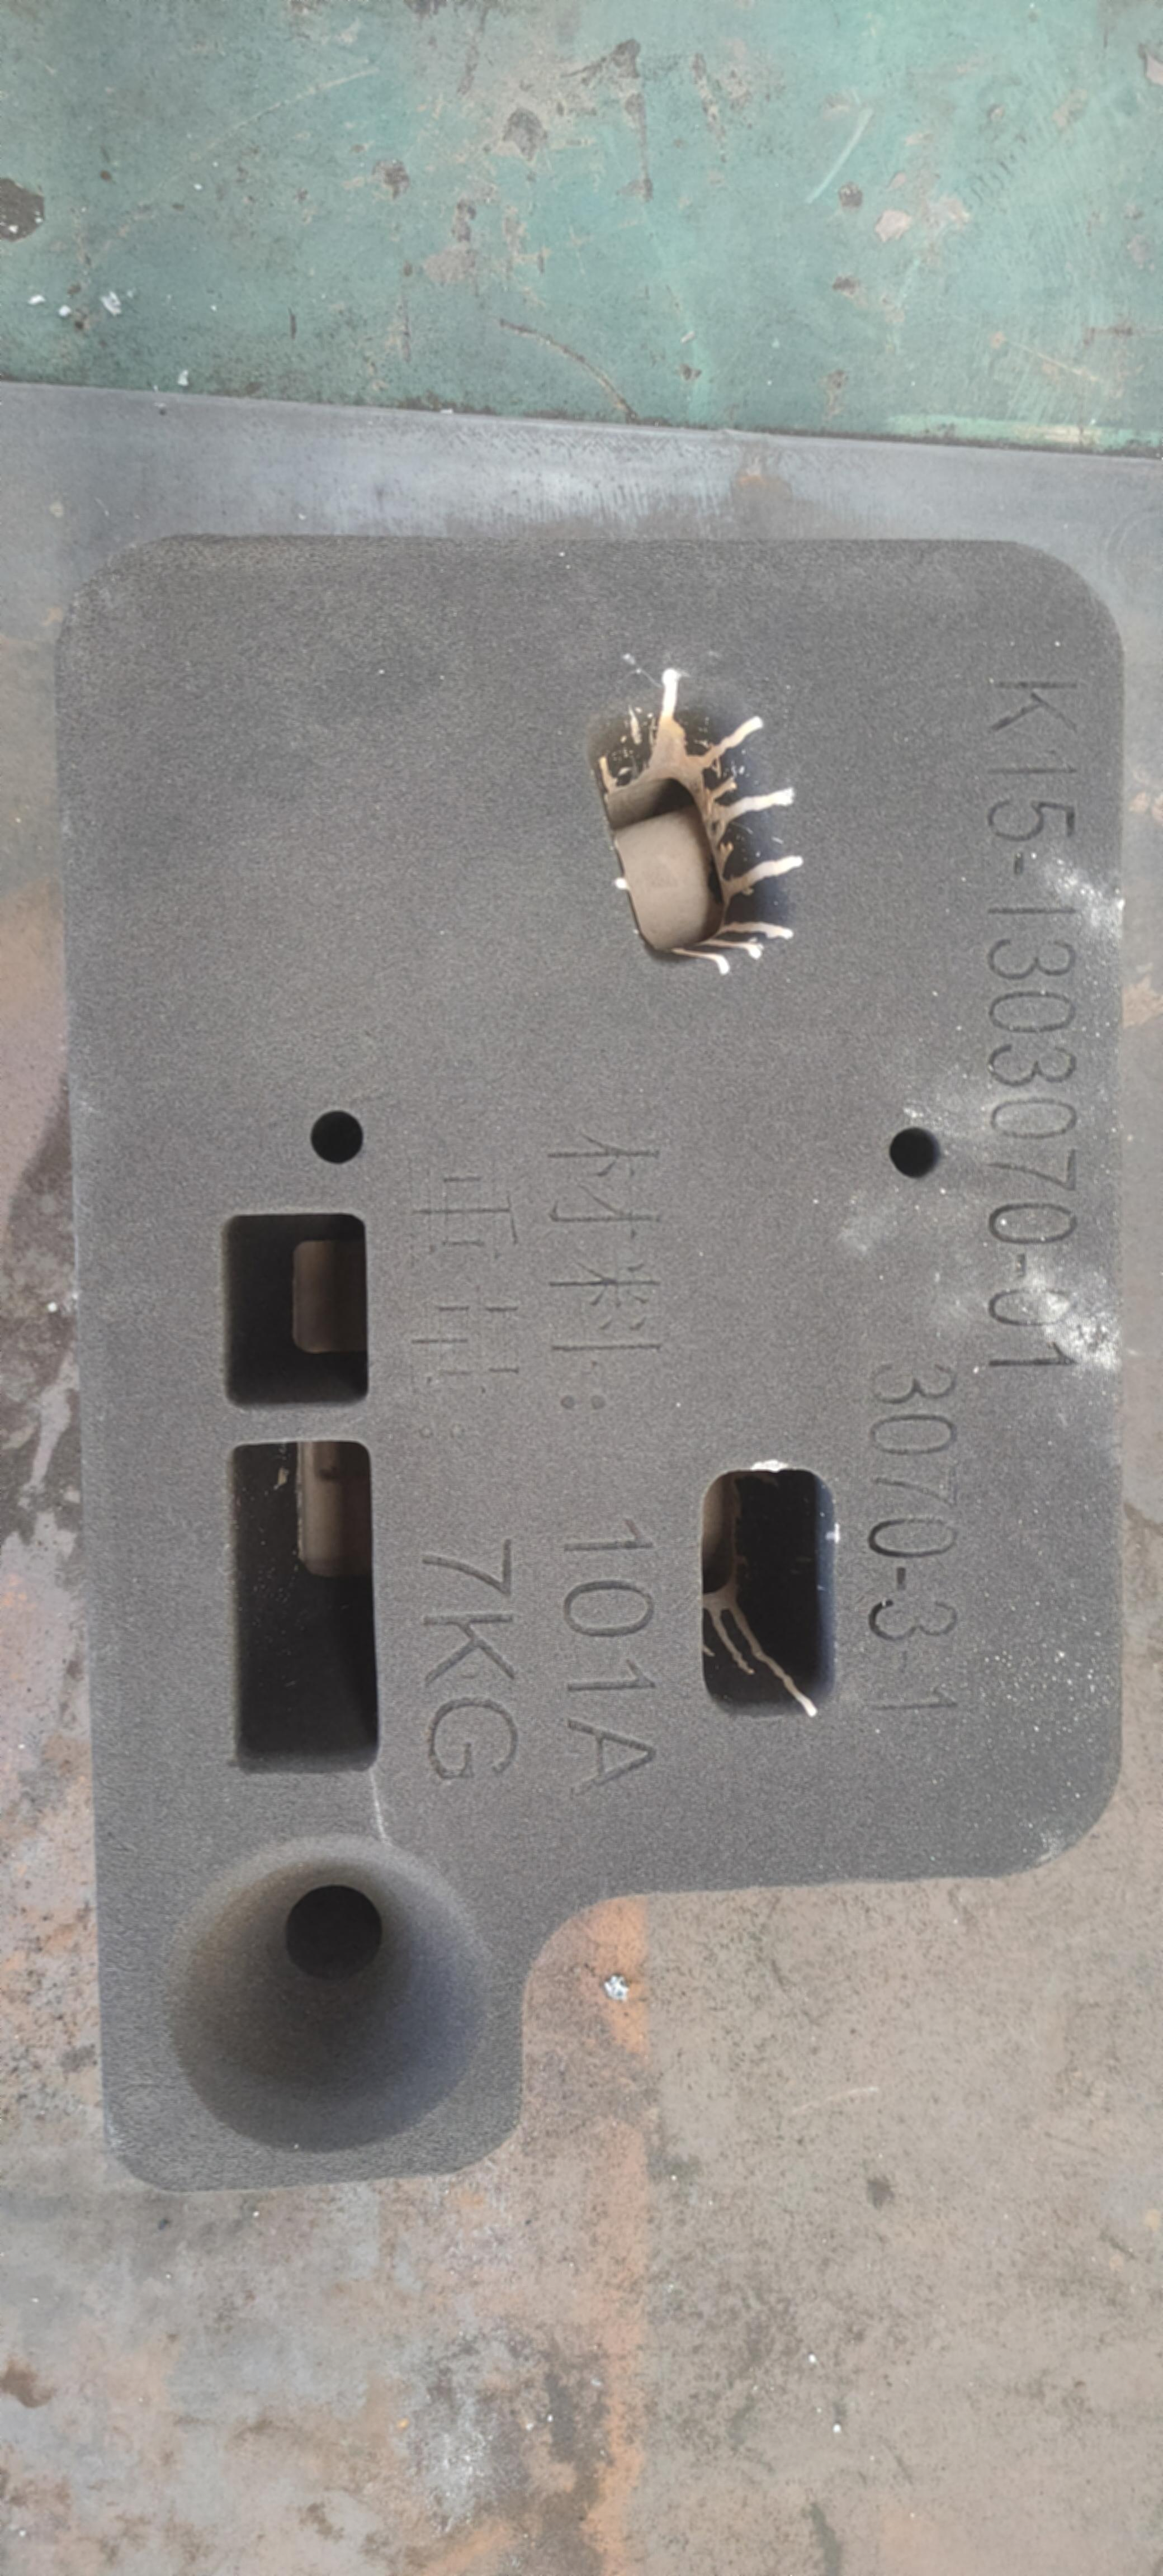pouring hole: (161, 1837, 491, 2150)
